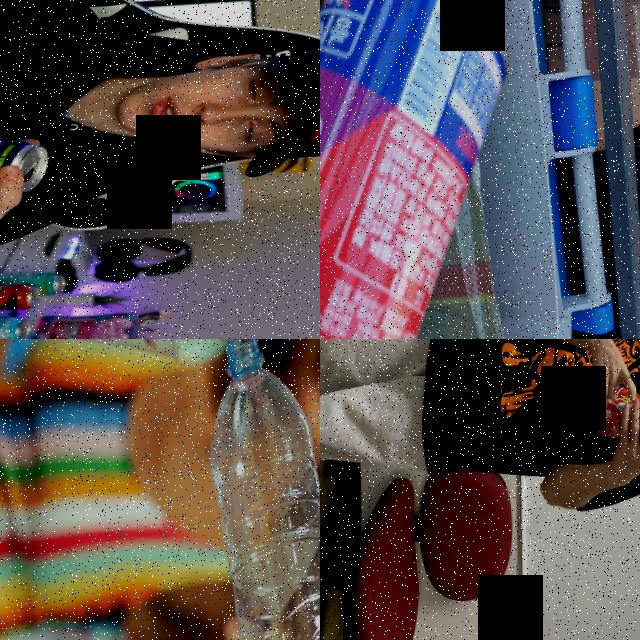bottle: (200, 339, 320, 640)
can: (320, 0, 523, 339), (0, 117, 49, 202), (593, 392, 640, 452), (0, 269, 69, 299), (0, 281, 38, 314), (0, 313, 30, 339)
cup: (57, 339, 181, 370)
